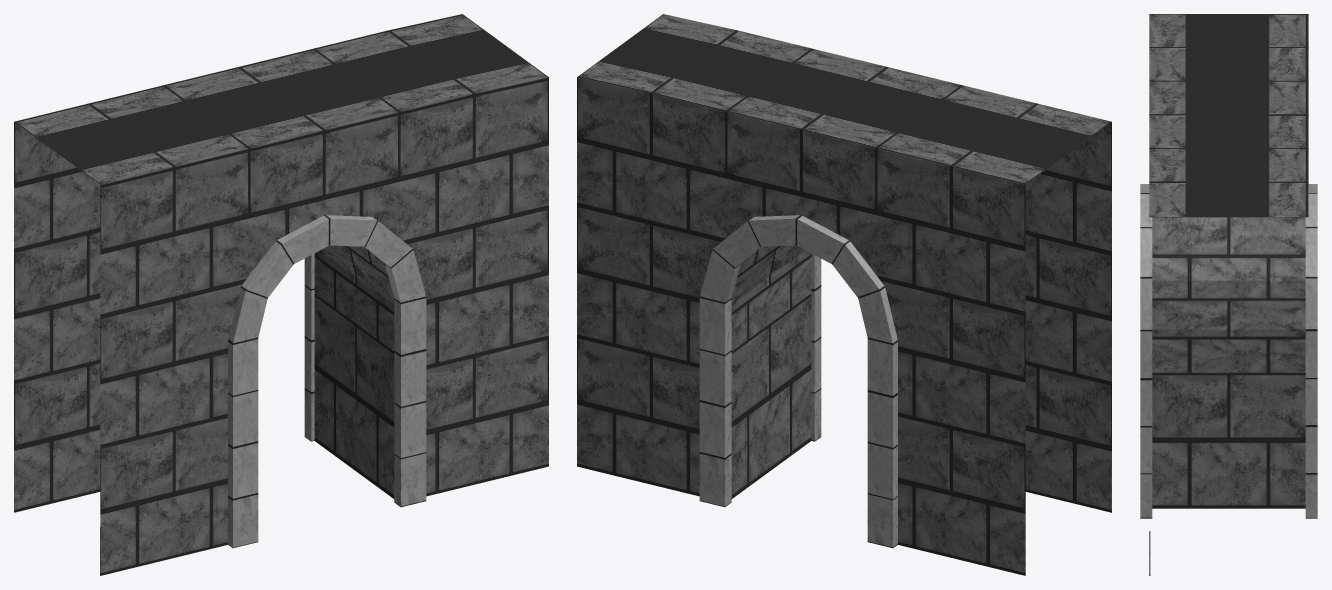
The model's file is Wall_DoorHole.fbx.
3 views of the same model, side by side, from view 1: azimuth 30°, elevation 25°; view 2: azimuth 150°, elevation 25°; view 3: azimuth 270°, elevation 25° (orthographic). The views are drawn at different scales.
Parts seen in each view (by area): view 1: Wall_Door_Frame:pCylinder5; view 2: Wall_Door_Frame:pCylinder5; view 3: Wall_Door_Frame:pCylinder5.
Boxes of the visible parts, left/top/right/bottom form: Wall_Door_Frame:pCylinder5: left=14, top=14, right=548, bottom=575; Wall_Door_Frame:pCylinder5: left=577, top=14, right=1111, bottom=575; Wall_Door_Frame:pCylinder5: left=1140, top=14, right=1317, bottom=575.
Size of the model in its own units: 6 by 5 by 2.23.
